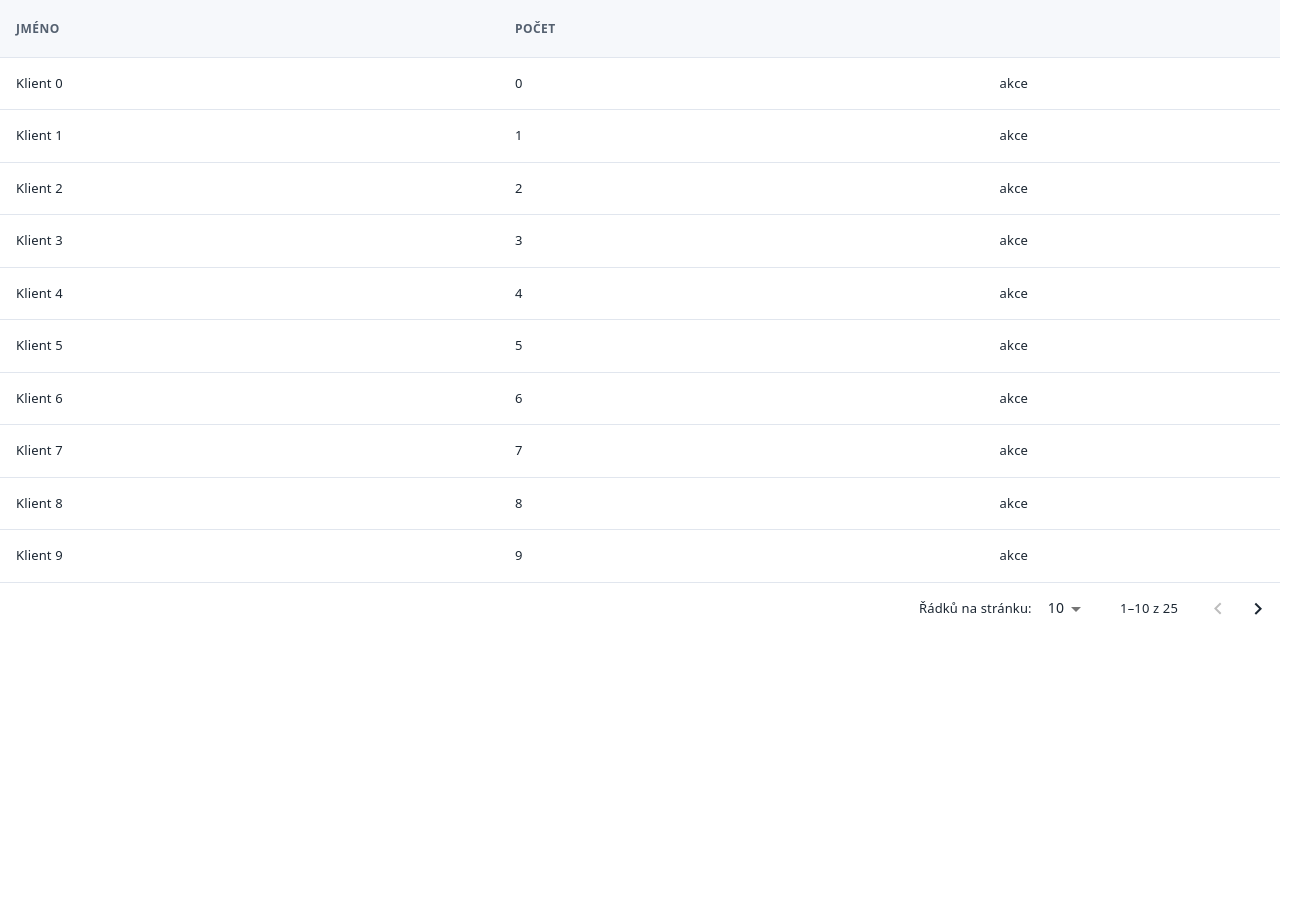
DataTable paging › returns to the first page when the ordering changes
Click the button named "Další stránka" at (1258, 609), box [1238,589,1278,629]
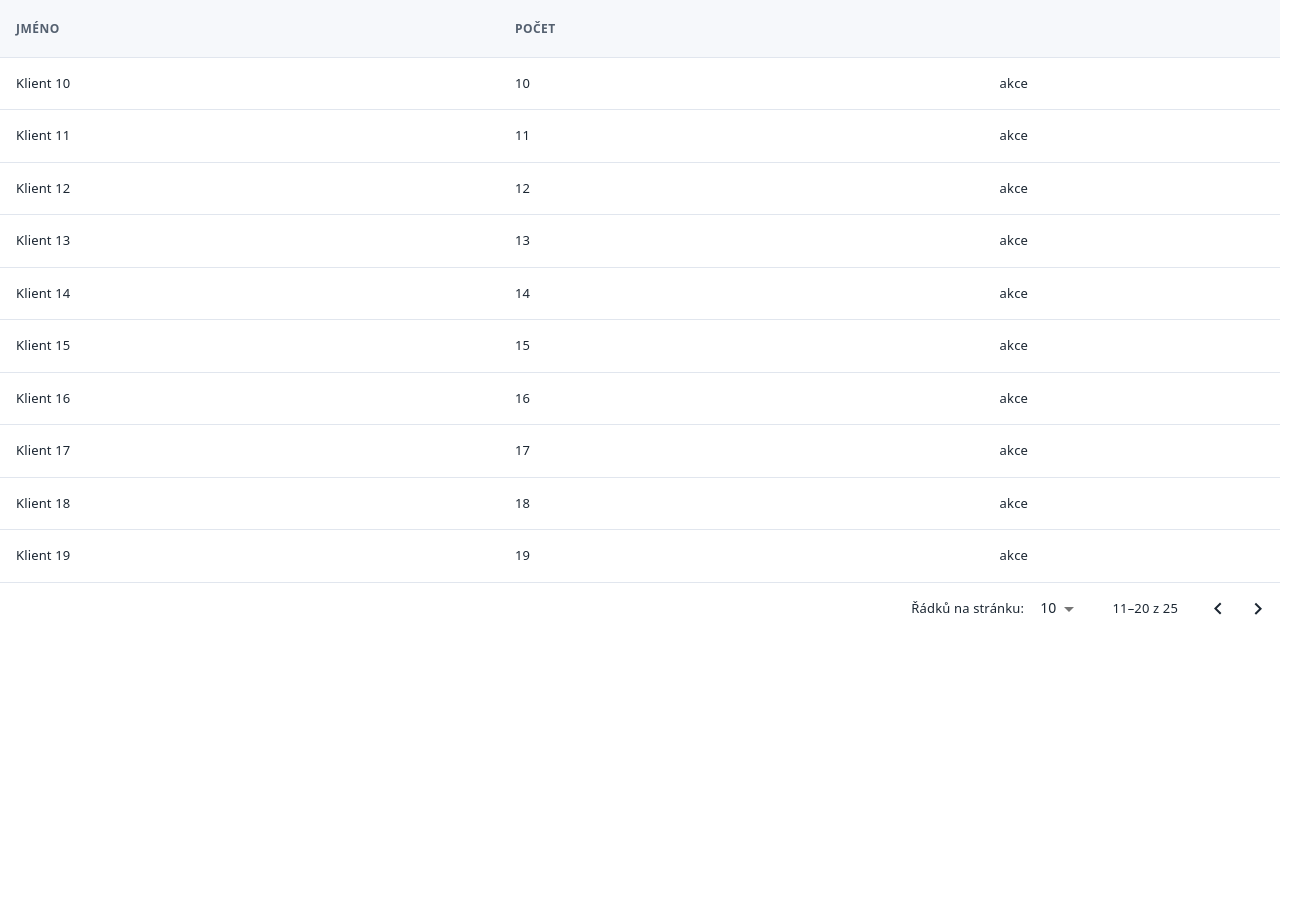
expect the text "11–20 z 25" is shown: met, box [1112,599,1178,618]
Click the button "Jméno" at (38, 28), box [16,20,60,37]
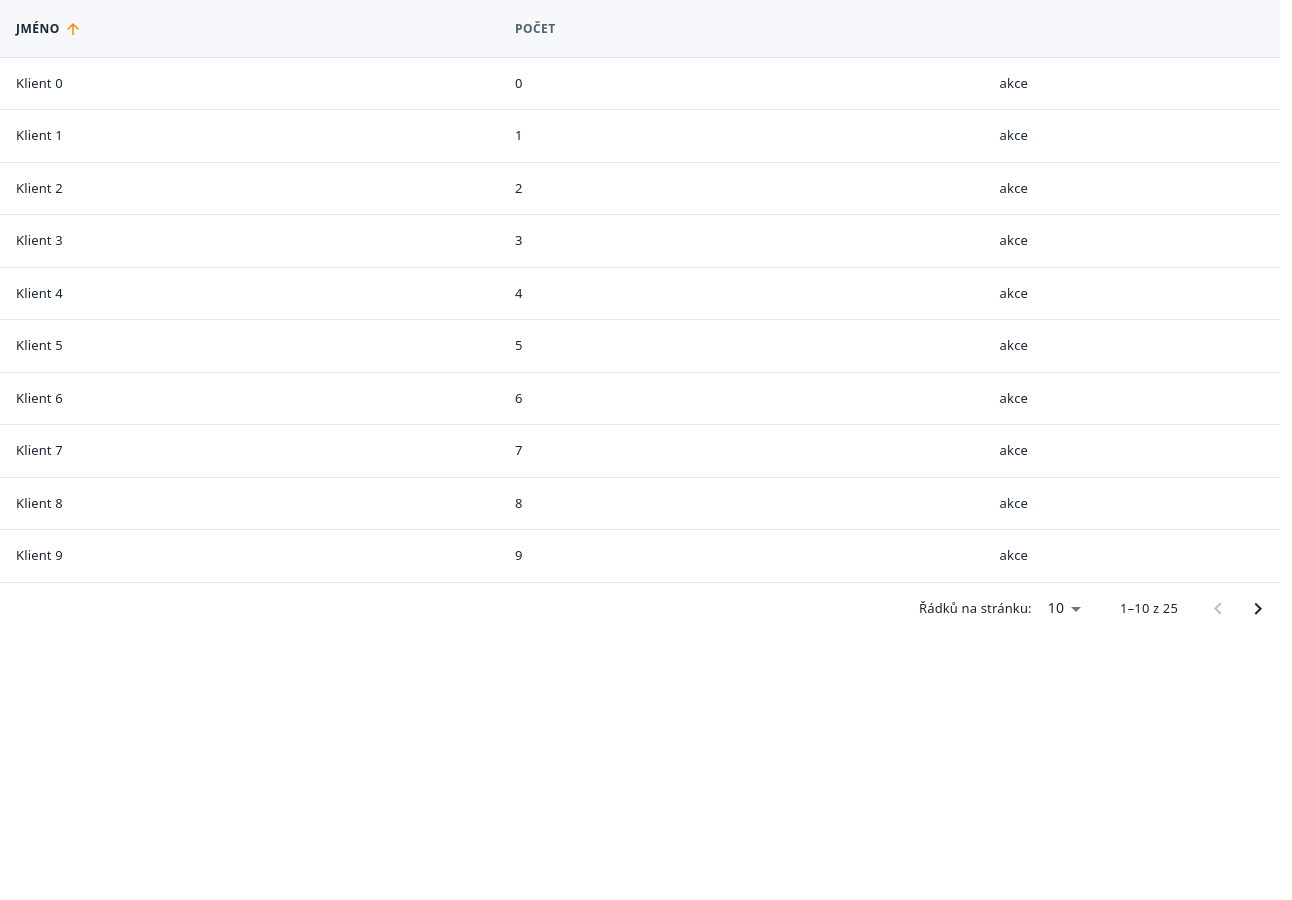
expect the text "1–10 z 25" is shown: met, box [1120,599,1178,618]
